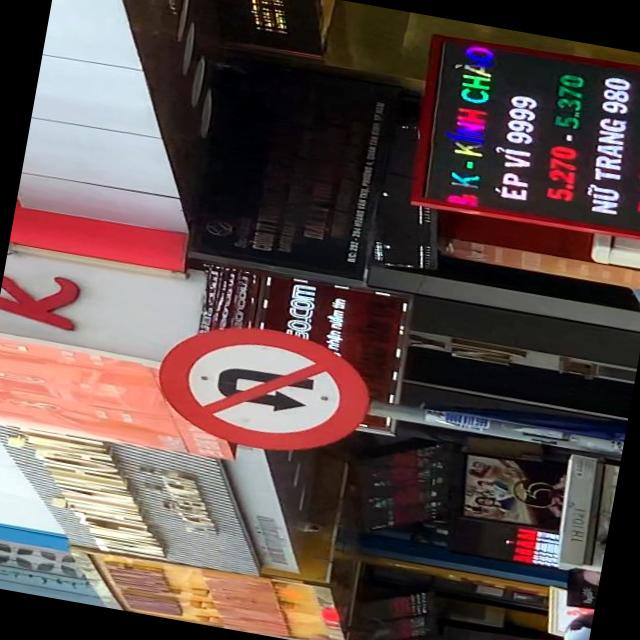P-124a1: (147, 311, 376, 465)
